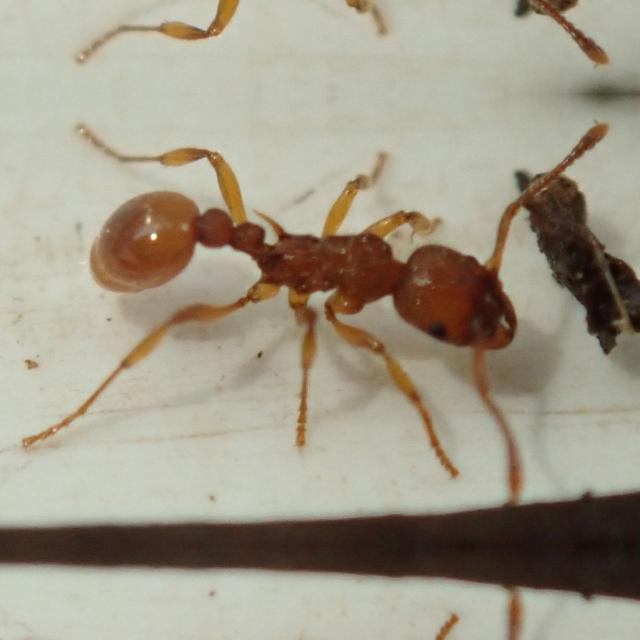Myrmica: (46, 122, 550, 396), (44, 0, 549, 62)
